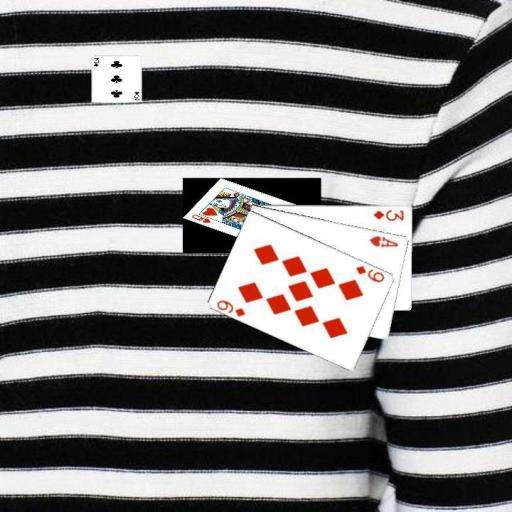3D: (371, 206, 406, 222)
9D: (353, 262, 386, 284), (214, 296, 247, 318)
AH: (366, 232, 400, 249)
